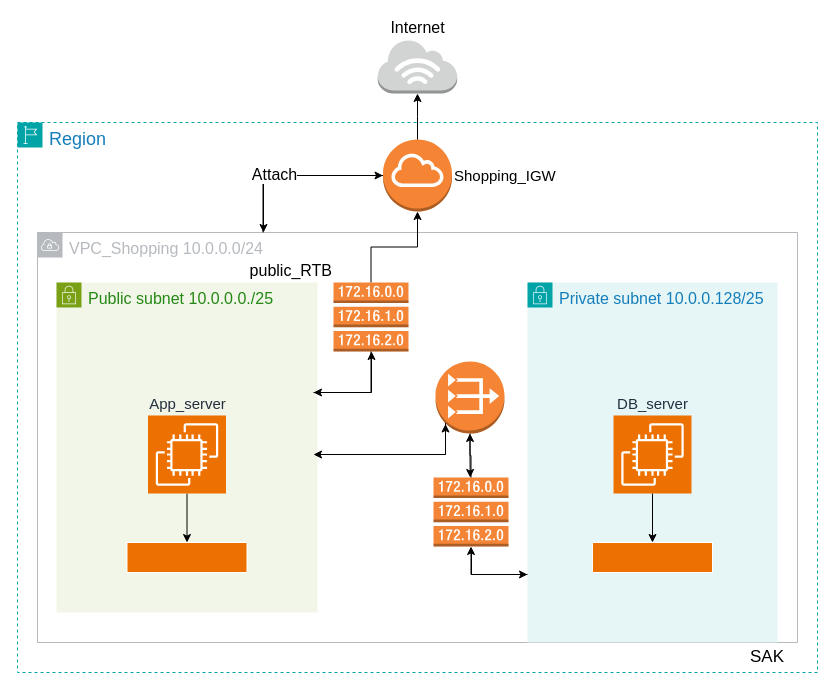
Image size: 835x690. Some labels were removed from this diagram. Here are the shapes that lost their labels. From the top down, the box of each, then its label:
(434, 360, 504, 434): NAT
(432, 476, 508, 546): private_RTB
(126, 542, 247, 572): Public_IP Enable
(592, 542, 712, 572): Public_IP Disable
